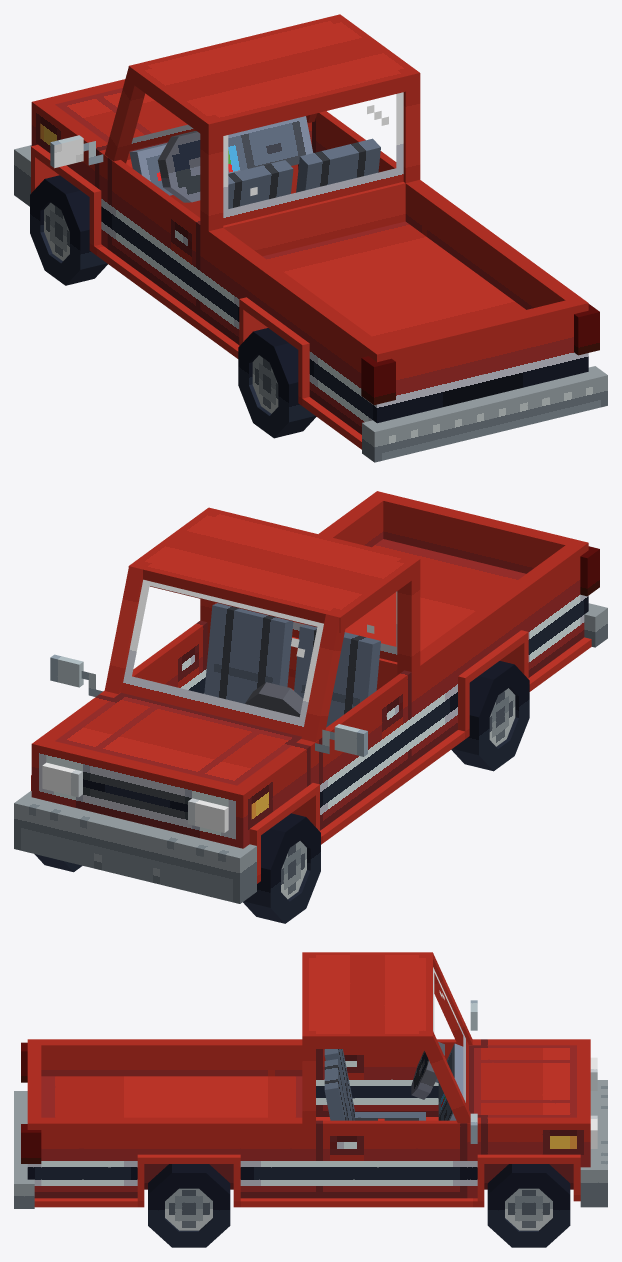
File: pickup-red.gltf
3 views of the same model, one above another, from view 1: azimuth 30°, elevation 25°; view 2: azimuth 150°, elevation 25°; view 3: azimuth 270°, elevation 25° (orthographic). The views are drawn at different scales.
Visible parts, largest first — view 1: cube (×37), tube (×2), cylinder (×3); view 2: cube (×37), tube (×2), cylinder (×3); view 3: cube (×37), tube (×2), cylinder (×3).
Part boxes in pixels (<box>): cube (×37): <box>14,14,607,462</box>; tube (×2): <box>30,175,316,438</box>; cylinder (×3): <box>44,131,278,413</box>; cube (×37): <box>14,491,607,903</box>; tube (×2): <box>243,661,529,923</box>; cylinder (×3): <box>245,682,515,899</box>; cube (×37): <box>14,952,607,1208</box>; tube (×2): <box>148,1164,570,1247</box>; cylinder (×3): <box>165,1042,552,1230</box>.
Bounding box in the file's own units: 2.69 × 2.06 × 5.41.
Materials: 2 (2 with a texture image).
